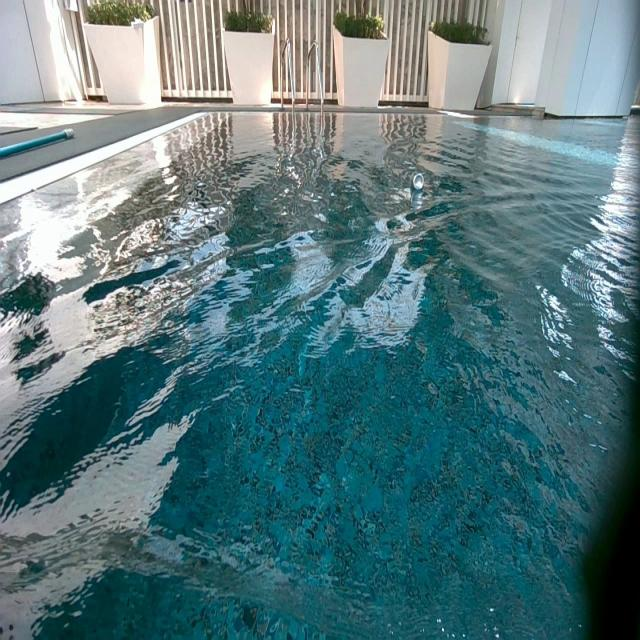Cans: (413, 173, 424, 189)
